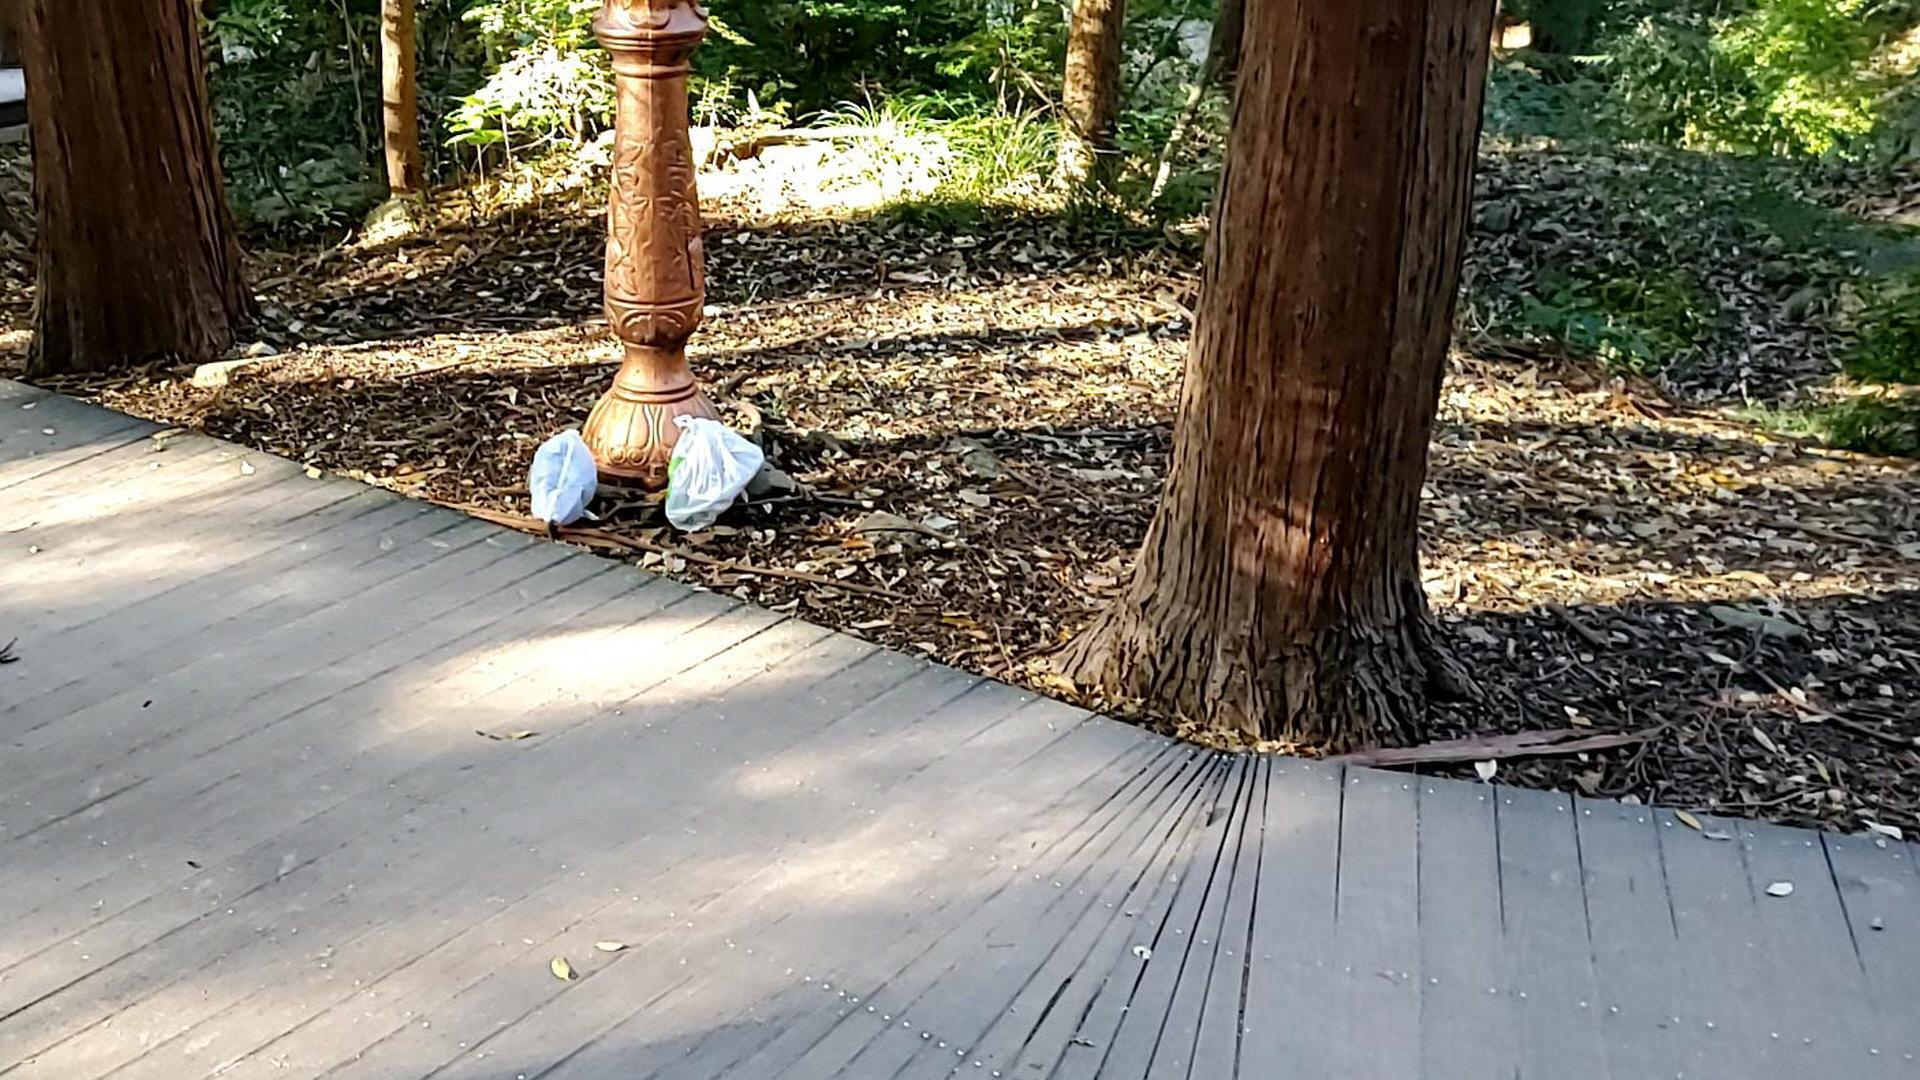white_bag: (658, 413, 771, 535), (526, 419, 607, 534)
